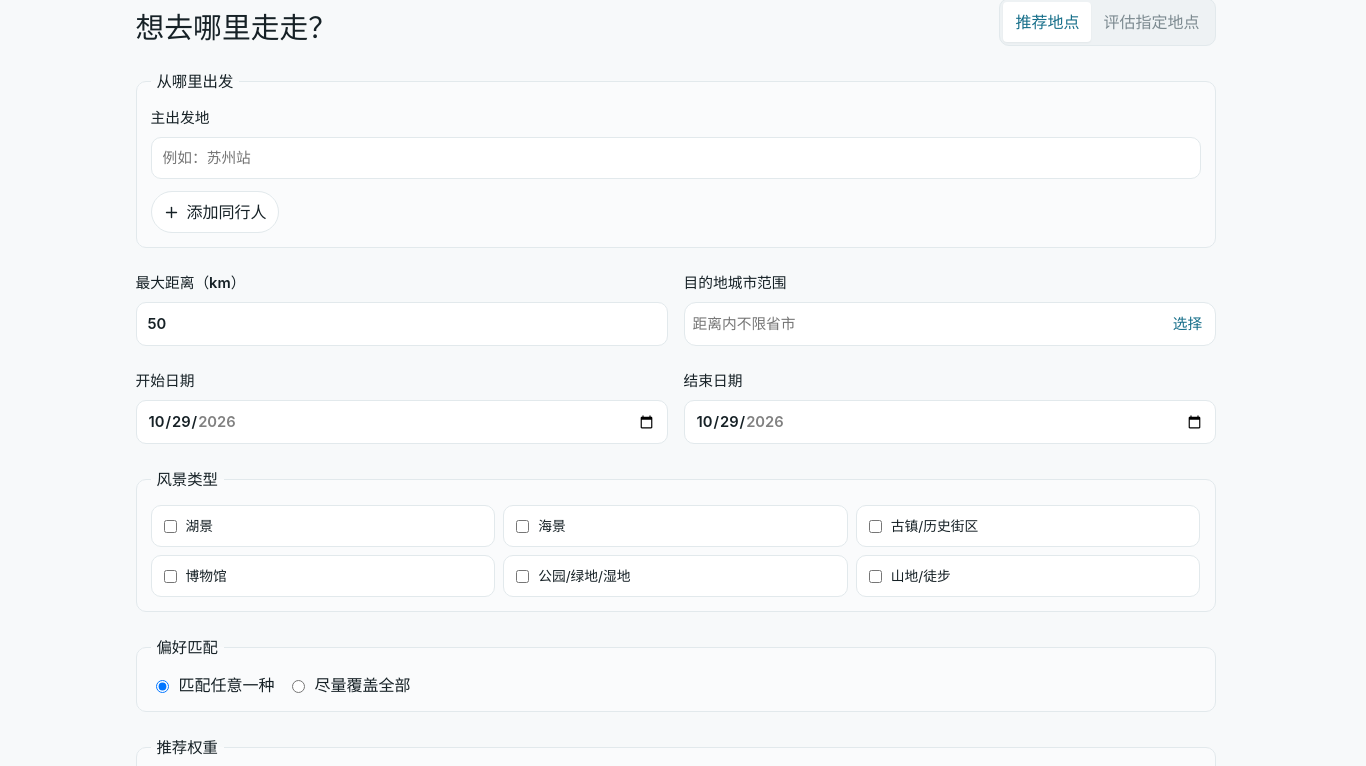
Scenario: TravelForm › announces all invalid fields prominently without starting a recommendation
The width and height of the screenshot is (1366, 766).
Replace the text in the number field labelled "最大距离（km）" with "500000" at (402, 324), box [136,302,668,346]
(page scrolled)
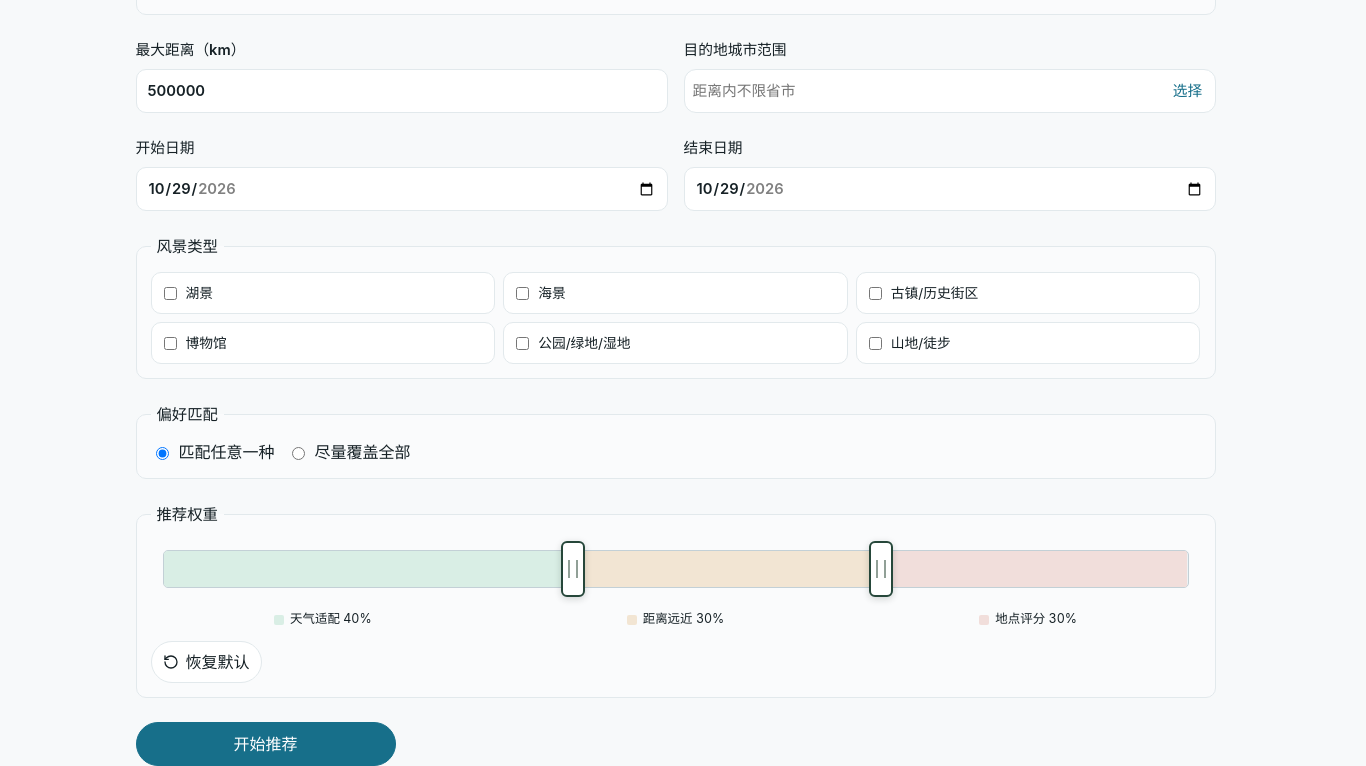
Click the button "开始推荐" at (266, 744), box [136,722,396,765]
(page scrolled)
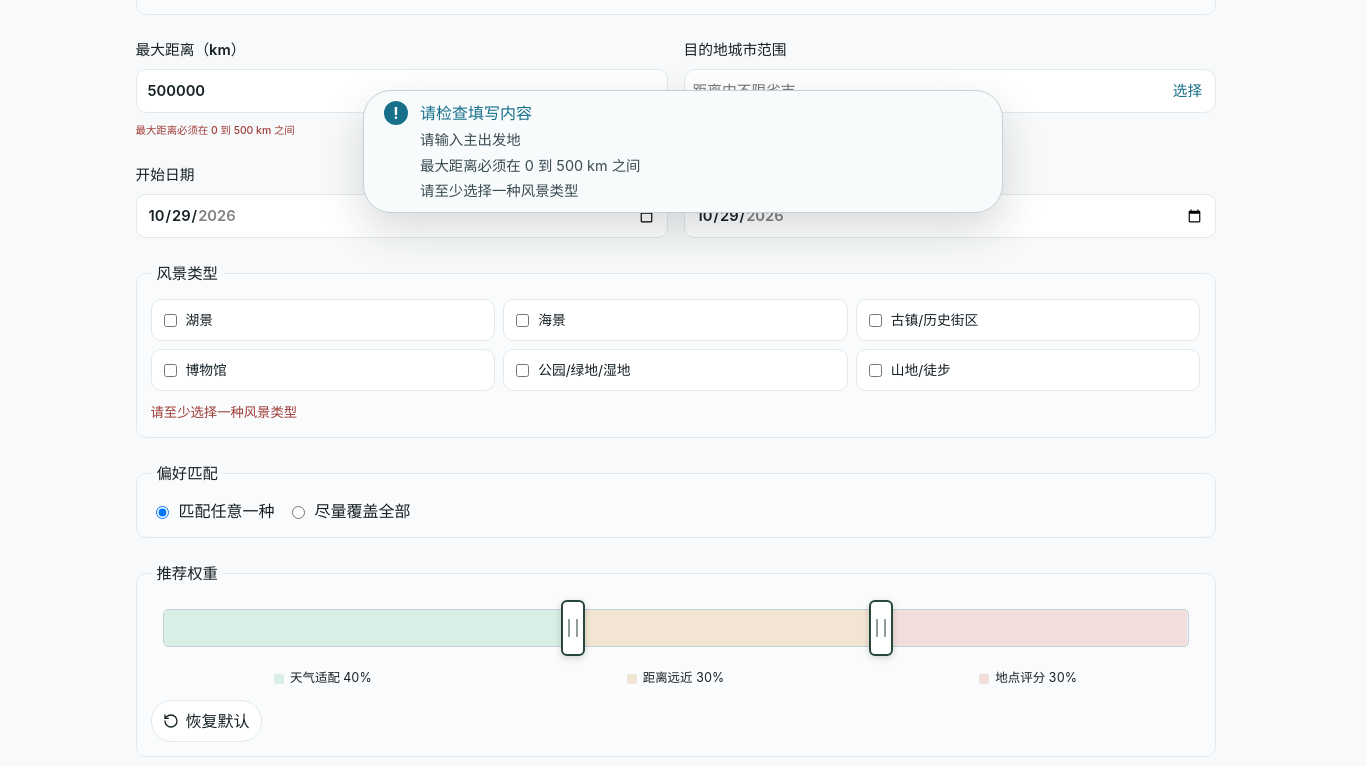
Check: the list item "请输入主出发地" is shown, box [420,131,521,148]
Check: the list item "最大距离必须在 0 到 500 km 之间" is shown, box [420,155,640,176]
Check: the list item "请至少选择一种风景类型" is shown, box [420,182,578,199]
